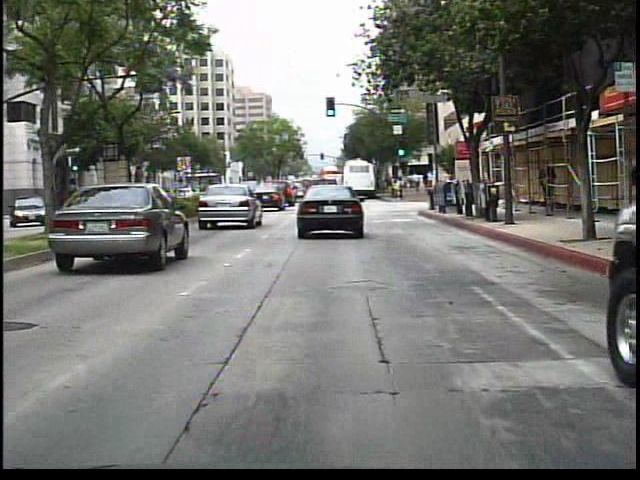person: (534, 157, 558, 220)
